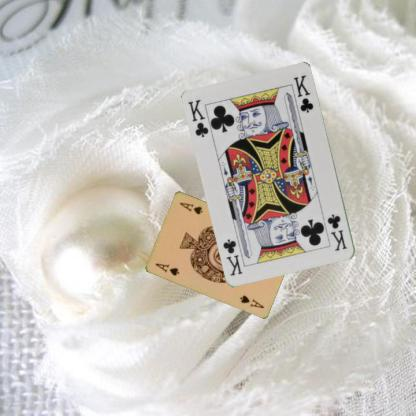As: (153, 260, 180, 276)
Kc: (186, 97, 210, 139), (325, 212, 348, 252)
